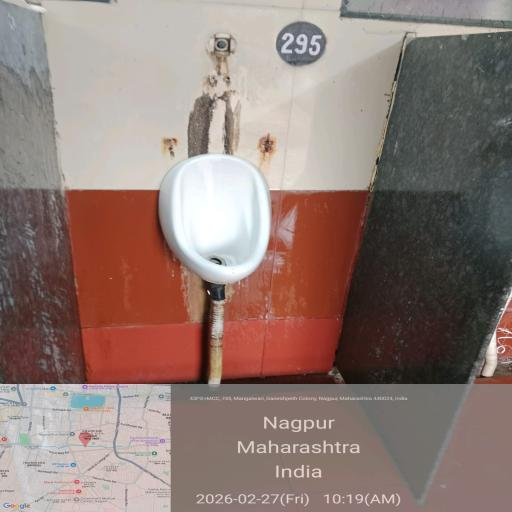clean_floor: (302, 26, 512, 342), (38, 9, 166, 373)
clean_urinal: (164, 152, 276, 274)
partial_dirty_floor: (151, 89, 298, 153), (156, 266, 298, 324)
